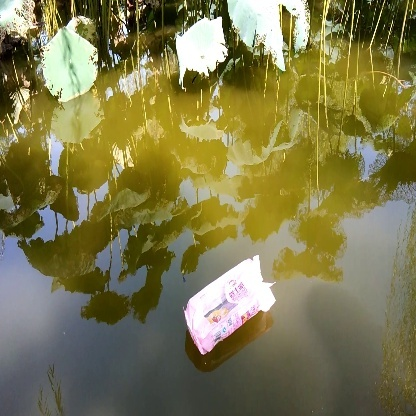plastic-bag: (181, 252, 278, 355)
